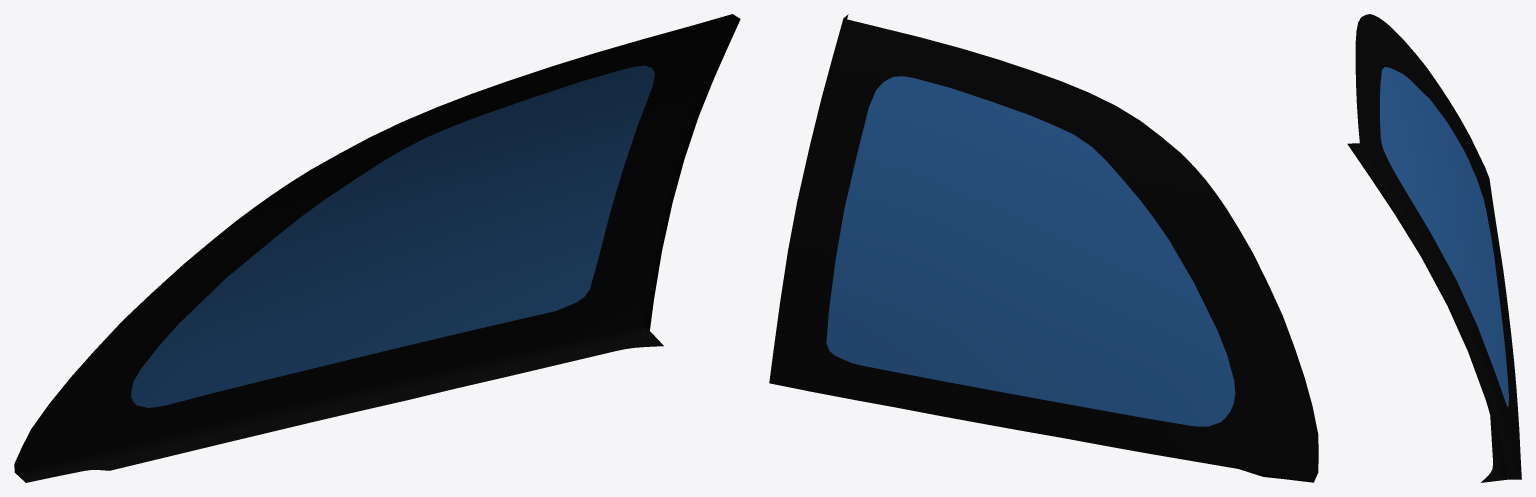
3 renders of one model, left to right at view 1: azimuth 30°, elevation 25°; view 2: azimuth 150°, elevation 25°; view 3: azimuth 270°, elevation 25°, orthographic. The views are drawn at different scales.
Visible parts, largest first — view 1: N664_9A_38SG_L_1_DTaSI_N664_9A_38SG_L, N664_9A_38SG_L_N664_9A_38SG_L_2_DTaSI; view 2: N664_9A_38SG_L_1_DTaSI_N664_9A_38SG_L, N664_9A_38SG_L_N664_9A_38SG_L_2_DTaSI; view 3: N664_9A_38SG_L_N664_9A_38SG_L_2_DTaSI, N664_9A_38SG_L_1_DTaSI_N664_9A_38SG_L.
Boxes of the visible parts, left/top/right/bottom form: N664_9A_38SG_L_1_DTaSI_N664_9A_38SG_L: left=131, top=65, right=654, bottom=407; N664_9A_38SG_L_N664_9A_38SG_L_2_DTaSI: left=14, top=14, right=740, bottom=482; N664_9A_38SG_L_1_DTaSI_N664_9A_38SG_L: left=826, top=76, right=1235, bottom=426; N664_9A_38SG_L_N664_9A_38SG_L_2_DTaSI: left=769, top=14, right=1318, bottom=482; N664_9A_38SG_L_N664_9A_38SG_L_2_DTaSI: left=1347, top=14, right=1521, bottom=482; N664_9A_38SG_L_1_DTaSI_N664_9A_38SG_L: left=1380, top=67, right=1508, bottom=406.
Bounding box in the file's own units: 85.4 × 47.97 × 22.34.
